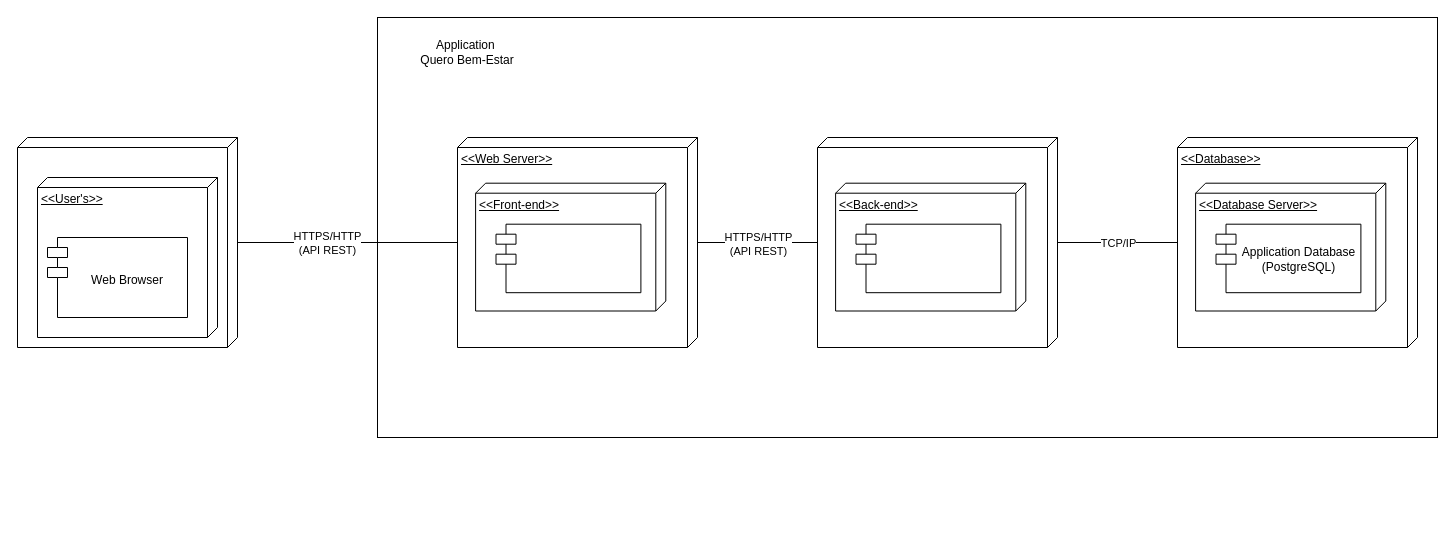
The diagram is 1455 pixels wide and 555 high, and some of its shapes have lost their labels. The shapes that lost their labels are listed below. From the top down, each one's box as (x1, y1, x2, y2) in pixels, then its label:
(16, 136, 238, 348): <<Device>>
(495, 223, 641, 293): React
(855, 223, 1001, 293): Node.js
(816, 136, 1058, 348): <<Application Server>>
